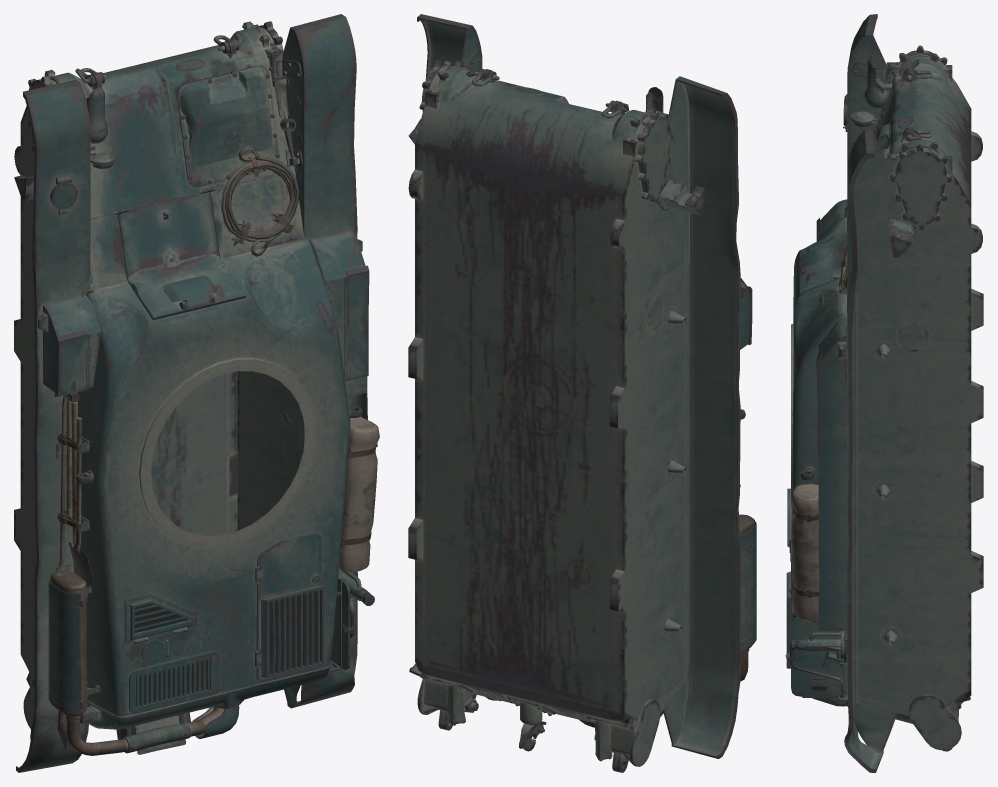
Rendered from Hull.glb.
3 views of the same model, side by side, from view 1: azimuth 30°, elevation 25°; view 2: azimuth 150°, elevation 25°; view 3: azimuth 270°, elevation 25° (orthographic). The views are drawn at different scales.
Visible parts, largest first — view 1: set_0_group_0; view 2: set_0_group_0; view 3: set_0_group_0.
Part boxes in pixels (box(x1,y1,x2,y2)): set_0_group_0: box(14, 14, 379, 772); set_0_group_0: box(408, 14, 756, 772); set_0_group_0: box(785, 14, 983, 772).
Size of the model in its own units: 1.95 by 3.9 by 1.12.
Materials: 1 (1 with a texture image).
